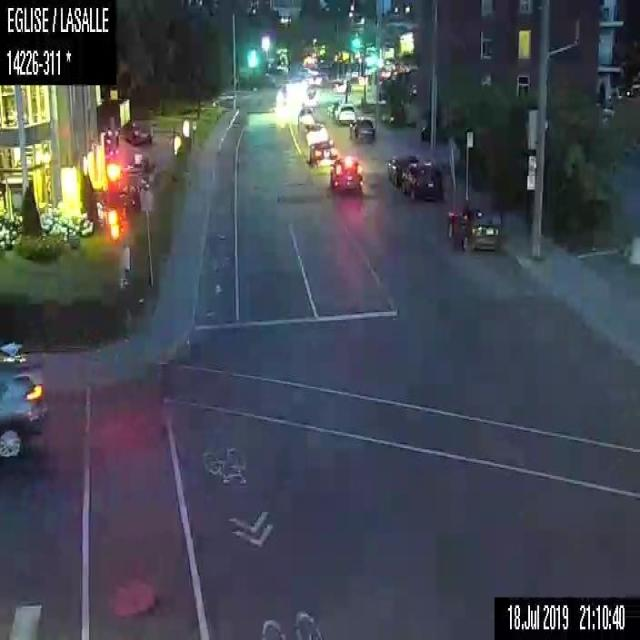vehicle: (0, 346, 45, 464), (444, 202, 502, 255), (400, 161, 444, 204), (329, 156, 363, 190), (385, 154, 418, 186), (308, 139, 338, 165), (122, 118, 151, 144), (348, 117, 375, 143), (333, 102, 355, 124), (304, 122, 328, 142), (298, 106, 313, 126), (326, 99, 341, 118)
